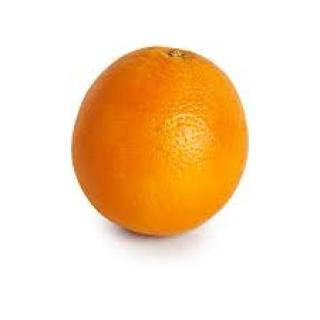orange: (60, 21, 261, 257)
